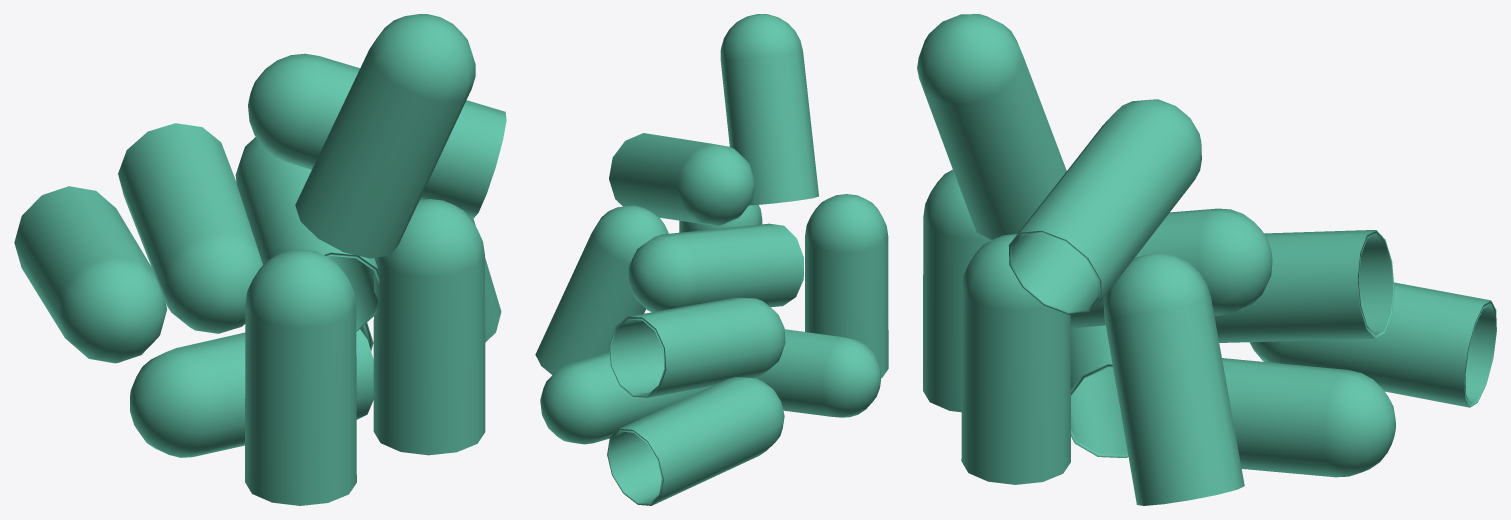
The model's file is Cage_Pile_01B_Lod0.fbx.
The picture shows the model from 3 angles, left to right: view 1: azimuth 30°, elevation 25°; view 2: azimuth 150°, elevation 25°; view 3: azimuth 270°, elevation 25°; orthographic projection. The views are drawn at different scales.
Visible parts, largest first — view 1: Cage_Pile_01B_Lod0; view 2: Cage_Pile_01B_Lod0; view 3: Cage_Pile_01B_Lod0.
Boxes of the visible parts, x1,y1,x2,y2 form: Cage_Pile_01B_Lod0: (14,14,506,505); Cage_Pile_01B_Lod0: (535,14,888,505); Cage_Pile_01B_Lod0: (917,14,1496,505).
Size of the model in its own units: 223 by 240 by 285.
